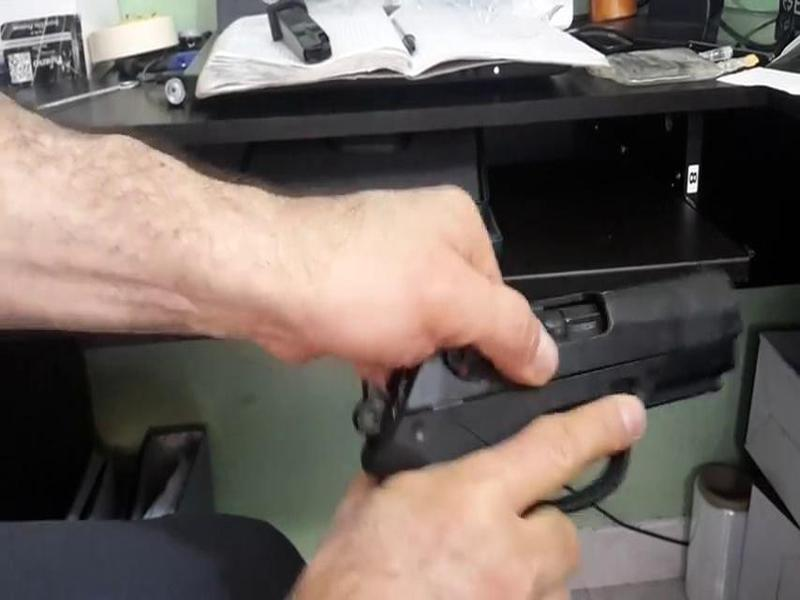Pistola: (354, 264, 745, 539)
